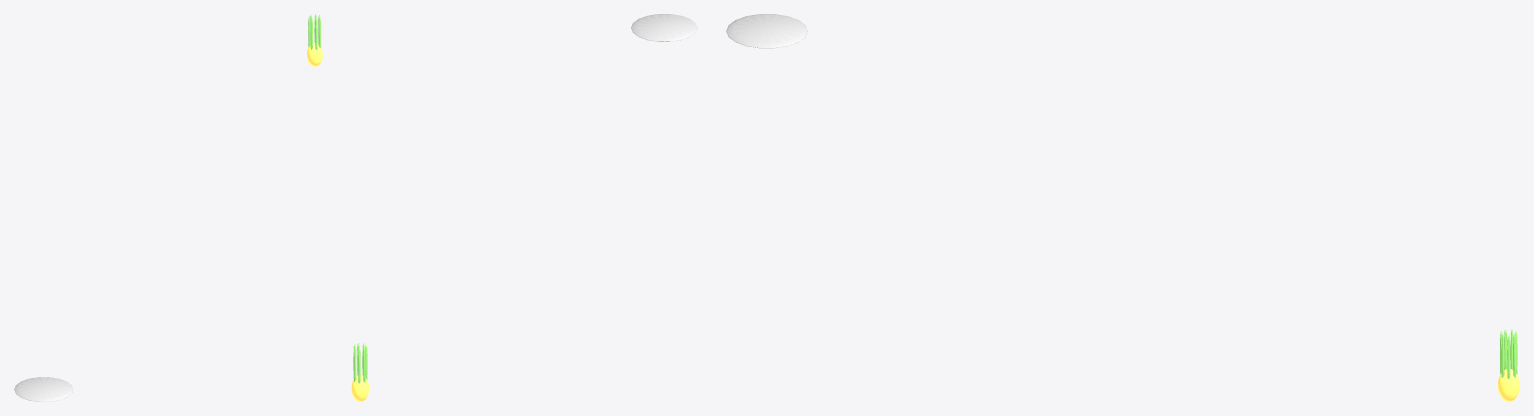
File: farm_crop_carrot_s2_v3.glb
3 views of the same model, side by side, from view 1: azimuth 30°, elevation 25°; view 2: azimuth 210°, elevation 25°; view 3: azimuth 270°, elevation 25° (orthographic). The views are drawn at different scales.
Parts seen in each view (by area): view 1: soil.002, body.001; view 2: soil.002, body.001; view 3: soil.002.
Boxes of the visible parts, bbox=[...] form: soil.002: bbox=[14, 377, 73, 401]; body.001: bbox=[307, 42, 322, 66]; soil.002: bbox=[631, 14, 697, 41]; body.001: bbox=[351, 375, 369, 401]; soil.002: bbox=[726, 14, 807, 48].
Bounding box in the file's own units: 6.15 × 0.5109 × 5.35.
